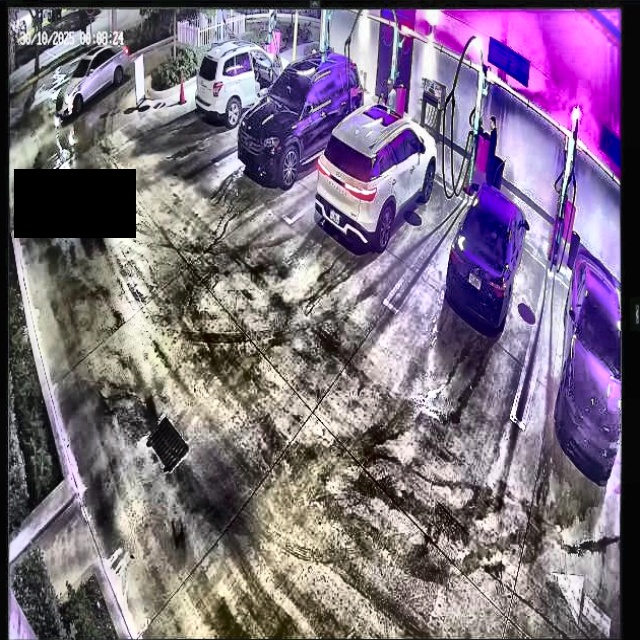Car: (317, 106, 437, 252), (237, 48, 364, 184), (446, 180, 526, 329)
